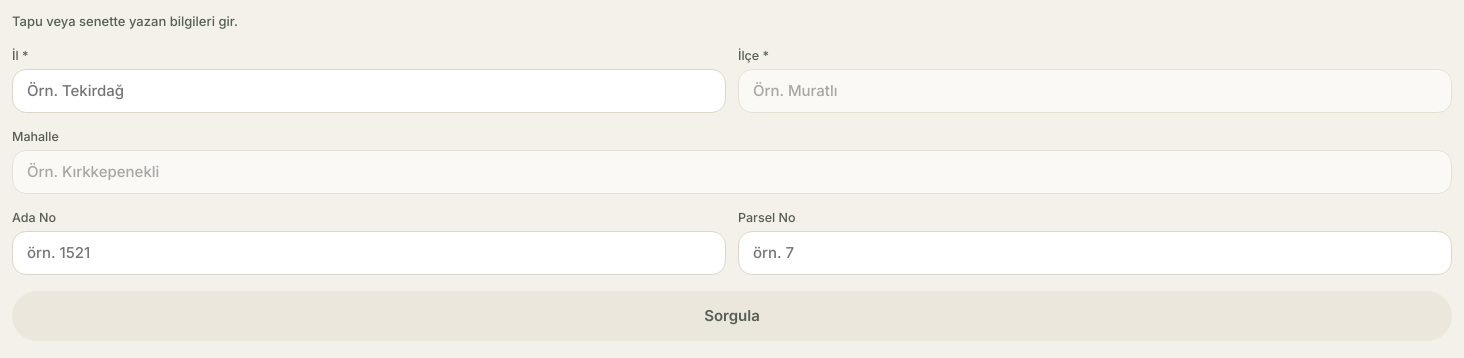
ManualParcelEntryForm › ayni oturumda ikinci mount il listesini yeniden cekmez (module-scope onbellek)
Ikinci mount'ta da il secenekleri (onbellekten) gelmeli.
Type "Adana" into the dropdown labelled "İl *" at x=369, y=90, box [12,68,726,112]
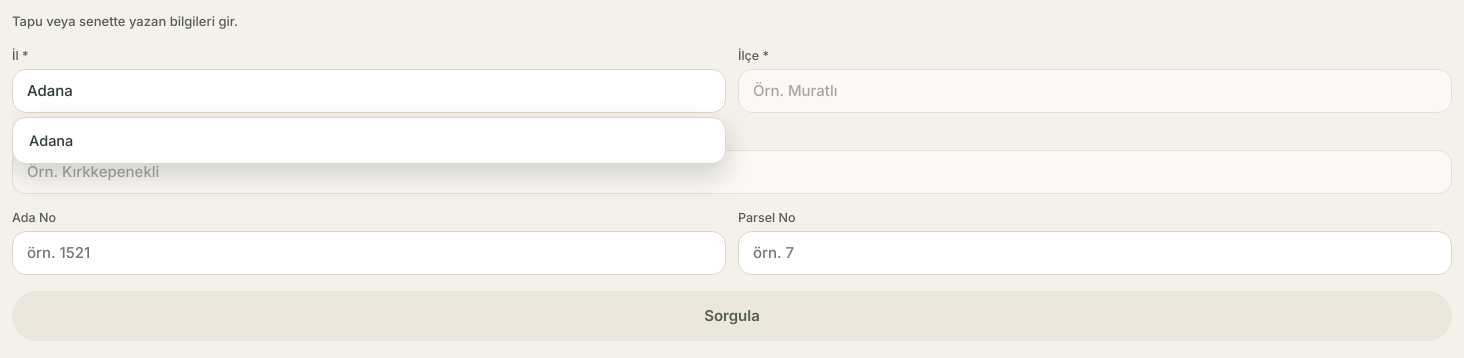
Check: the option "Adana" is shown, box [29,132,73,148]
